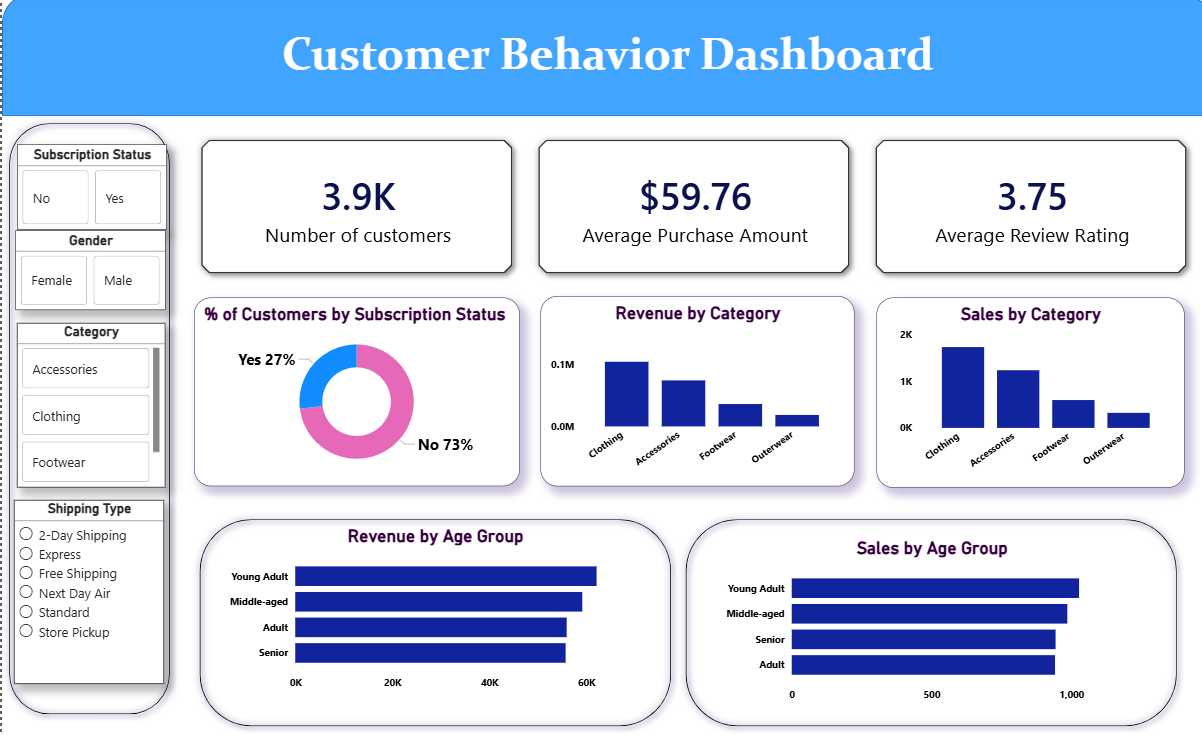

The page's visual inventory and layout, read from the dashboard file:
{"tool":"powerbi","page":{"name":"Page 1","canvas":[1500,920],"ordinal":0},"visuals":[{"type":"cardVisual","fields":{"Data":["public customer.Number of customers","public customer.Average Purchase Amount","public customer.Average Review Rating"]},"box":[217.6,153.1,1281.7,225],"z":0},{"type":"shape","box":[0,0,1499.3,152.8],"z":1000},{"type":"textbox","box":[37.6,0,1428.4,152.8],"z":2000},{"type":"donutChart","title":"% of Customers by Subscription Status","fields":{"Category":["public customer.subscription_status"],"Y":["CountNonNull(public customer.customer_id)"]},"box":[237.9,378,403.9,234.2],"z":3000},{"type":"clusteredColumnChart","title":"Revenue by Category","fields":{"Y":["Sum(public customer.purchase_amount)"],"Category":["public customer.category"]},"box":[668.5,376.2,389.1,236],"z":4000},{"type":"clusteredColumnChart","title":"Sales by Category","fields":{"Y":["CountNonNull(public customer.customer_id)"],"Category":["public customer.category"]},"box":[1084.3,377.1,381.7,236],"z":5000},{"type":"shape","box":[0,152.8,217,750.7],"z":6000},{"type":"advancedSlicerVisual","fields":{"Values":["public customer.subscription_status"]},"box":[17.7,188.2,186,106.3],"z":7000},{"type":"advancedSlicerVisual","title":"Gender","fields":{"Values":["public customer.gender"]},"box":[16.2,294.5,186,99.7],"z":8000},{"type":"advancedSlicerVisual","title":"Category","fields":{"Values":["public customer.category"]},"box":[17.7,409.7,183.8,203.7],"z":9000},{"type":"listSlicer","title":"Shipping Type","fields":{"Values":["public customer.shipping_type"]},"box":[15.5,628.9,186,228.1],"z":10000},{"type":"clusteredBarChart","title":"Revenue by Age Group","fields":{"Y":["Sum(public customer.purchase_amount)"],"Category":["public customer.age_group"]},"box":[274.6,659.9,524.9,212.6],"z":11000},{"type":"shape","box":[237,644.4,602.4,274.6],"z":12000},{"type":"shape","box":[839.3,644.4,626.7,274.6],"z":13000},{"type":"clusteredBarChart","title":"Sales by Age Group","fields":{"Y":["CountNonNull(public customer.customer_id)"],"Category":["public customer.age_group"]},"box":[890.3,675.4,524.9,212.6],"z":14000}]}

Visuals, with their boxes in screenshot pixels (x1, y1, x2, y2), scaled from the page's 1500x920 canvas onto the 1202x735 screenshot:
cardVisual - public customer.Number of customers x public customer.Average Purchase Amount: [174, 122, 1201, 302]
shape: [0, 0, 1201, 122]
textbox: [30, 0, 1175, 122]
"% of Customers by Subscription Status" donutChart: [191, 302, 514, 489]
"Revenue by Category" clusteredColumnChart: [536, 301, 847, 489]
"Sales by Category" clusteredColumnChart: [869, 301, 1175, 490]
shape: [0, 122, 174, 722]
advancedSlicerVisual - public customer.subscription_status: [14, 150, 163, 235]
"Gender" advancedSlicerVisual: [13, 235, 162, 315]
"Category" advancedSlicerVisual: [14, 327, 161, 490]
"Shipping Type" listSlicer: [12, 502, 161, 685]
"Revenue by Age Group" clusteredBarChart: [220, 527, 641, 697]
shape: [190, 515, 673, 734]
shape: [673, 515, 1175, 734]
"Sales by Age Group" clusteredBarChart: [713, 540, 1134, 709]
